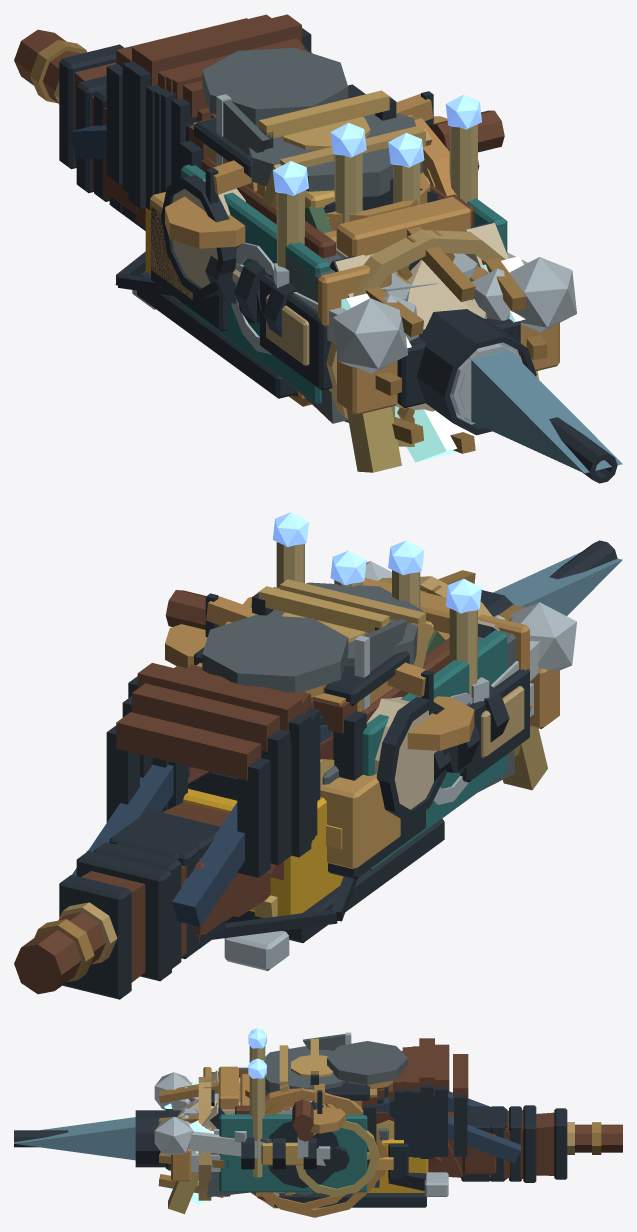
The model's file is arsenal-curios.glb.
The picture shows the model from 3 angles, top to bottom: view 1: azimuth 30°, elevation 25°; view 2: azimuth 150°, elevation 25°; view 3: azimuth 270°, elevation 25°; orthographic projection. The views are drawn at different scales.
Parts seen in each view (by area): view 1: tesla_arc_static_dark, beacon_furnace_reload_shell, crystal_caster_static_glass, tesla_arc_static_edge, spark_shuttle_static_dark, hive_scepter_static_trim, storm_battery_static_trim, capacitor_sieve_static_shell, tesla_arc_static_wood, ladder_coil_static_trim, folding_pike_static_dark, shield_lantern_reload_shell (+43 smaller); view 2: beacon_furnace_reload_shell, tesla_arc_static_dark, polygon_oath_static_shell, spark_shuttle_static_dark, folding_pike_static_dark, spark_shuttle_static_wood, capacitor_sieve_static_shell, angle_debt_reload_trim, grounding_rod_static_dark, flywheel_vow_static_wood, tesla_arc_static_shell, storm_battery_static_glow (+44 smaller); view 3: capacitor_sieve_static_shell, tesla_arc_static_dark, crystal_caster_static_glass, beacon_furnace_reload_shell, spark_shuttle_static_dark, tesla_arc_static_edge, flywheel_vow_ArtRotorX_trim, polygon_oath_static_shell, hive_scepter_static_trim, spiral_winch_reload_dark, spiral_winch_reload_trim, shield_lantern_reload_shell (+41 smaller).
Part boxes in pixels (x1,y1,x2,y2): tesla_arc_static_dark: [128, 28, 311, 398]; beacon_furnace_reload_shell: [202, 47, 348, 126]; crystal_caster_static_glass: [464, 343, 622, 473]; tesla_arc_static_edge: [333, 257, 576, 396]; spark_shuttle_static_dark: [106, 64, 536, 435]; hive_scepter_static_trim: [30, 40, 547, 453]; storm_battery_static_trim: [276, 124, 477, 268]; capacitor_sieve_static_shell: [181, 164, 507, 404]; tesla_arc_static_wood: [137, 14, 301, 86]; ladder_coil_static_trim: [336, 196, 471, 256]; folding_pike_static_dark: [59, 44, 617, 483]; shield_lantern_reload_shell: [249, 113, 422, 196]; beacon_furnace_reload_shell: [202, 615, 348, 692]; tesla_arc_static_dark: [128, 676, 509, 942]; polygon_oath_static_shell: [72, 724, 331, 926]; spark_shuttle_static_dark: [106, 590, 513, 877]; folding_pike_static_dark: [59, 540, 617, 999]; spark_shuttle_static_wood: [116, 712, 261, 780]; capacitor_sieve_static_shell: [362, 630, 507, 870]; angle_debt_reload_trim: [320, 774, 400, 869]; grounding_rod_static_dark: [82, 852, 358, 980]; flywheel_vow_static_wood: [132, 683, 279, 751]; tesla_arc_static_shell: [183, 788, 343, 916]; storm_battery_static_glow: [272, 512, 481, 613]; capacitor_sieve_static_shell: [219, 1067, 367, 1192]; tesla_arc_static_dark: [241, 1084, 433, 1207]; crystal_caster_static_glass: [14, 1117, 135, 1160]; beacon_furnace_reload_shell: [327, 1041, 407, 1084]; spark_shuttle_static_dark: [135, 1095, 467, 1167]; tesla_arc_static_edge: [154, 1072, 193, 1156]; flywheel_vow_ArtRotorX_trim: [265, 1089, 384, 1217]; polygon_oath_static_shell: [376, 1091, 520, 1163]; hive_scepter_static_trim: [158, 1080, 601, 1197]; spiral_winch_reload_dark: [268, 1121, 339, 1188]; spiral_winch_reload_trim: [258, 1088, 354, 1211]; shield_lantern_reload_shell: [264, 1046, 345, 1093].
Bounding box in the file's own units: 0.805 × 0.751 × 2.55.
